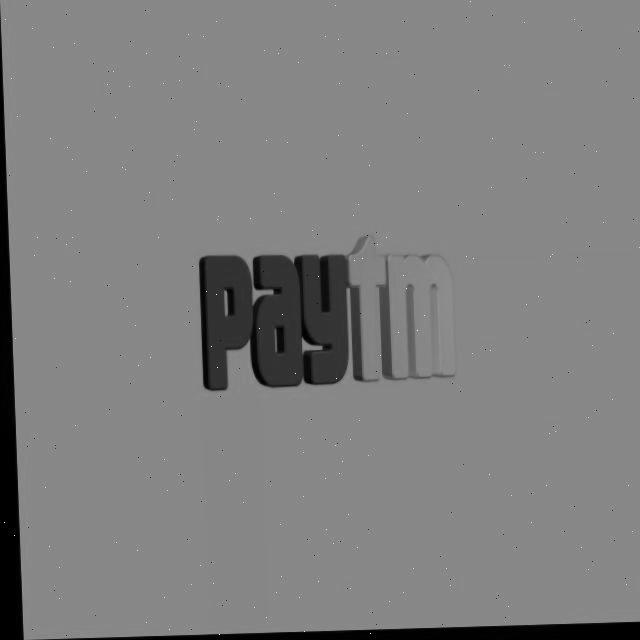fully_visible: (185, 226, 463, 402)
